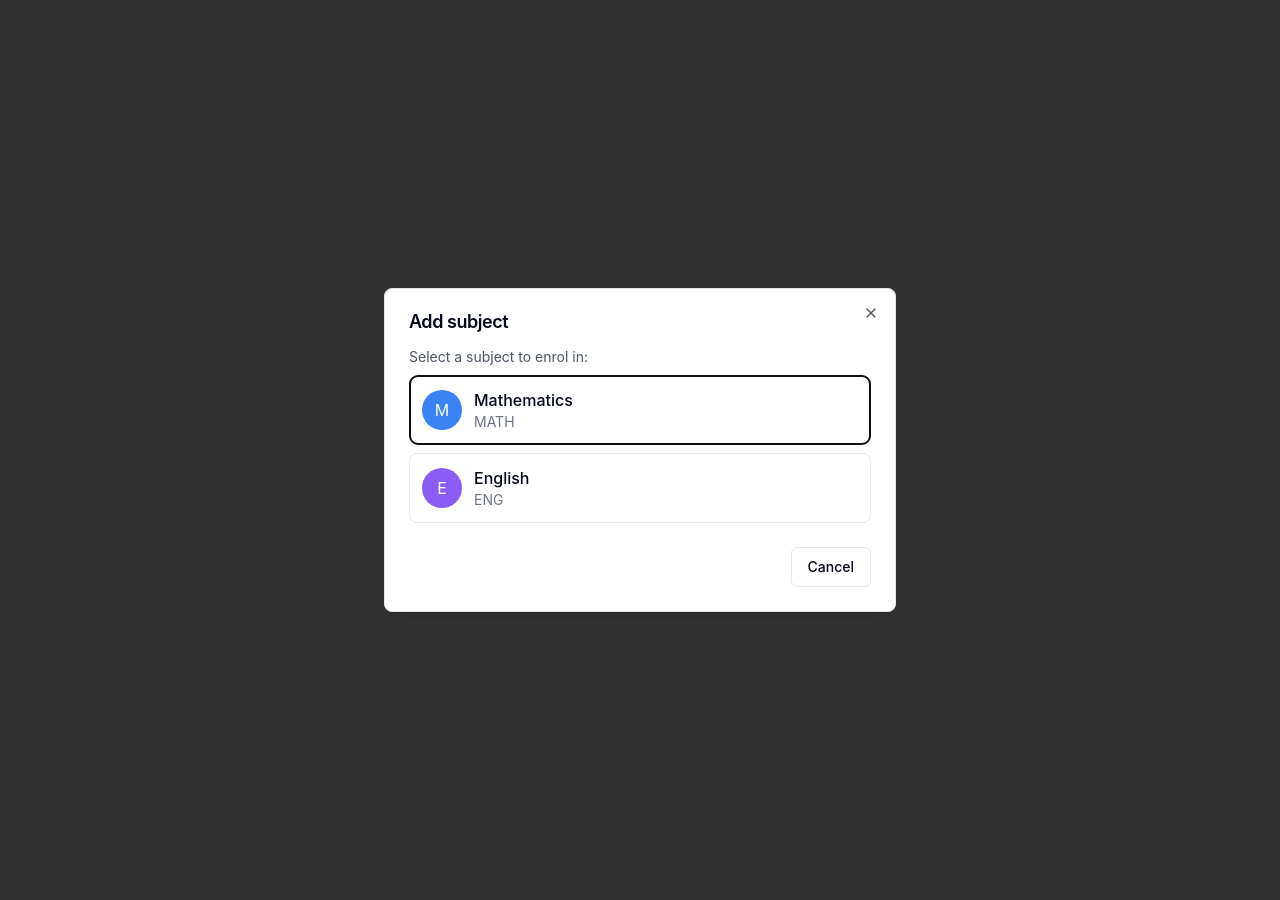
Test case: SubjectEnrolModal › shows pathway selection for Stage 5 Math
This screenshot has width=1280, height=900.
Click the text "Mathematics": (523, 400) [474, 388, 573, 412]
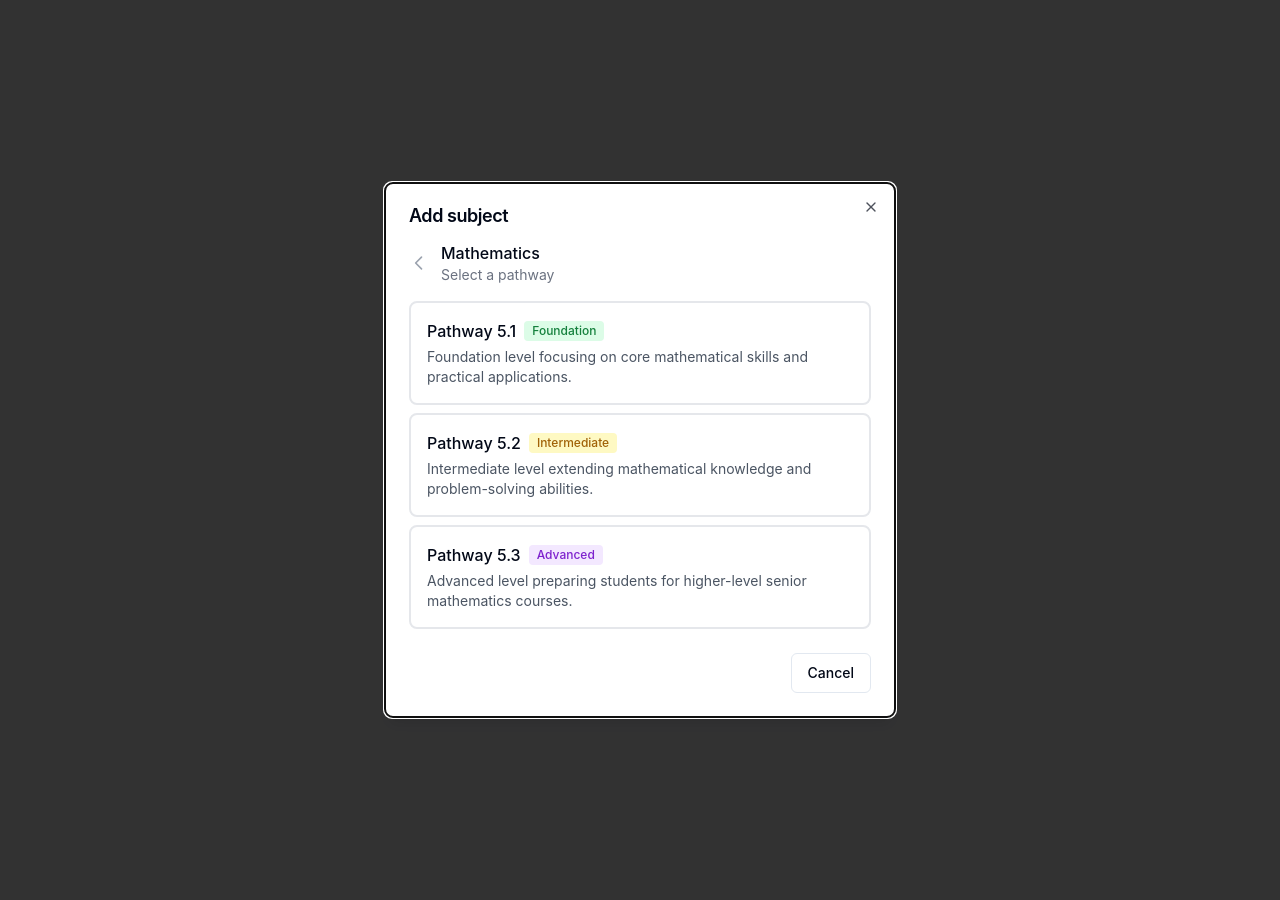
Now the text "Select a pathway" is shown, box [441, 265, 554, 285]
